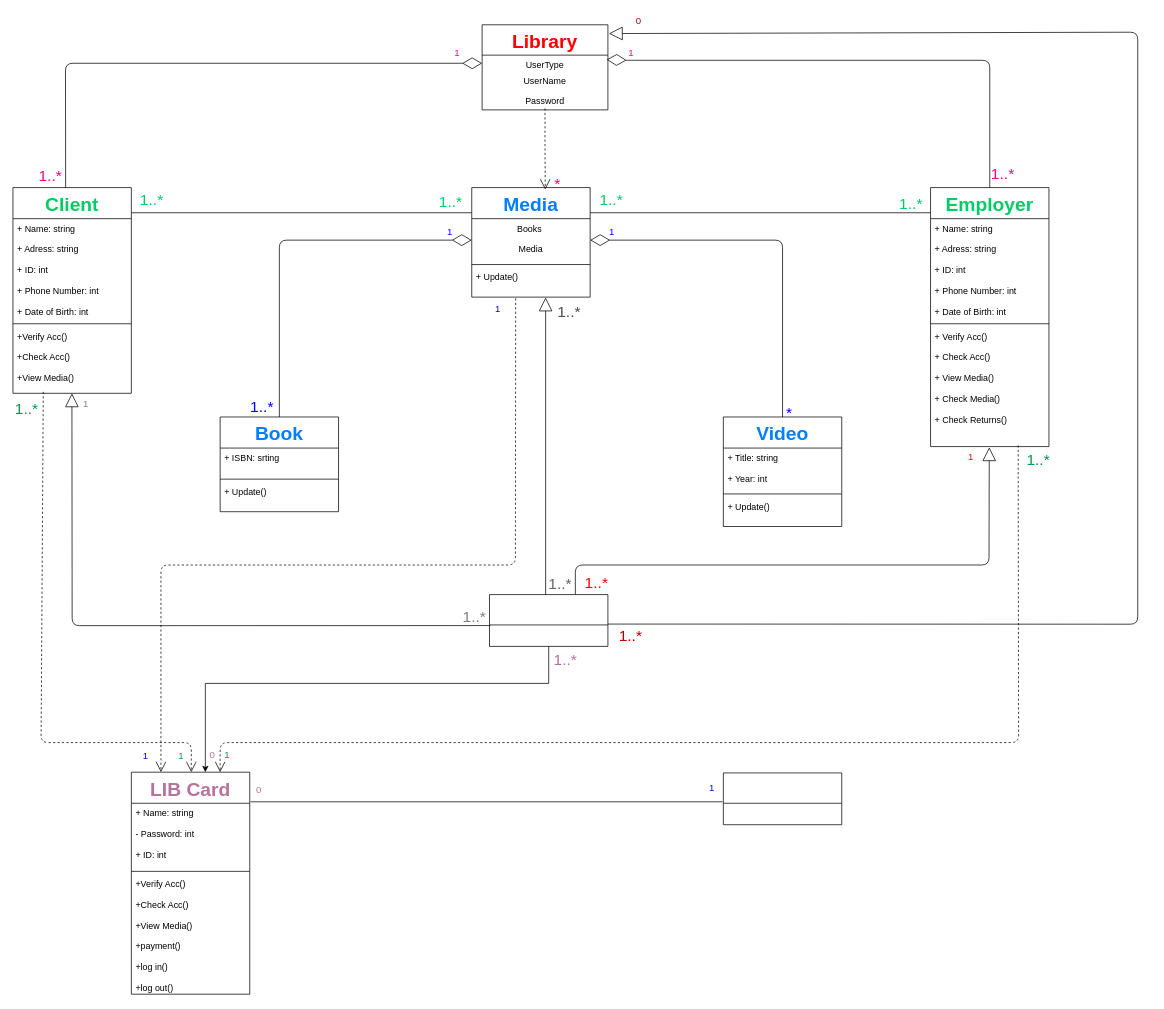
Some shapes in this 1164 by 1009 pixel diagram are drawn without their labels. Each missing label, with the centre of its shape:
"Branchs" goes at pixel 548 620.
"Payment" goes at pixel 782 798.
